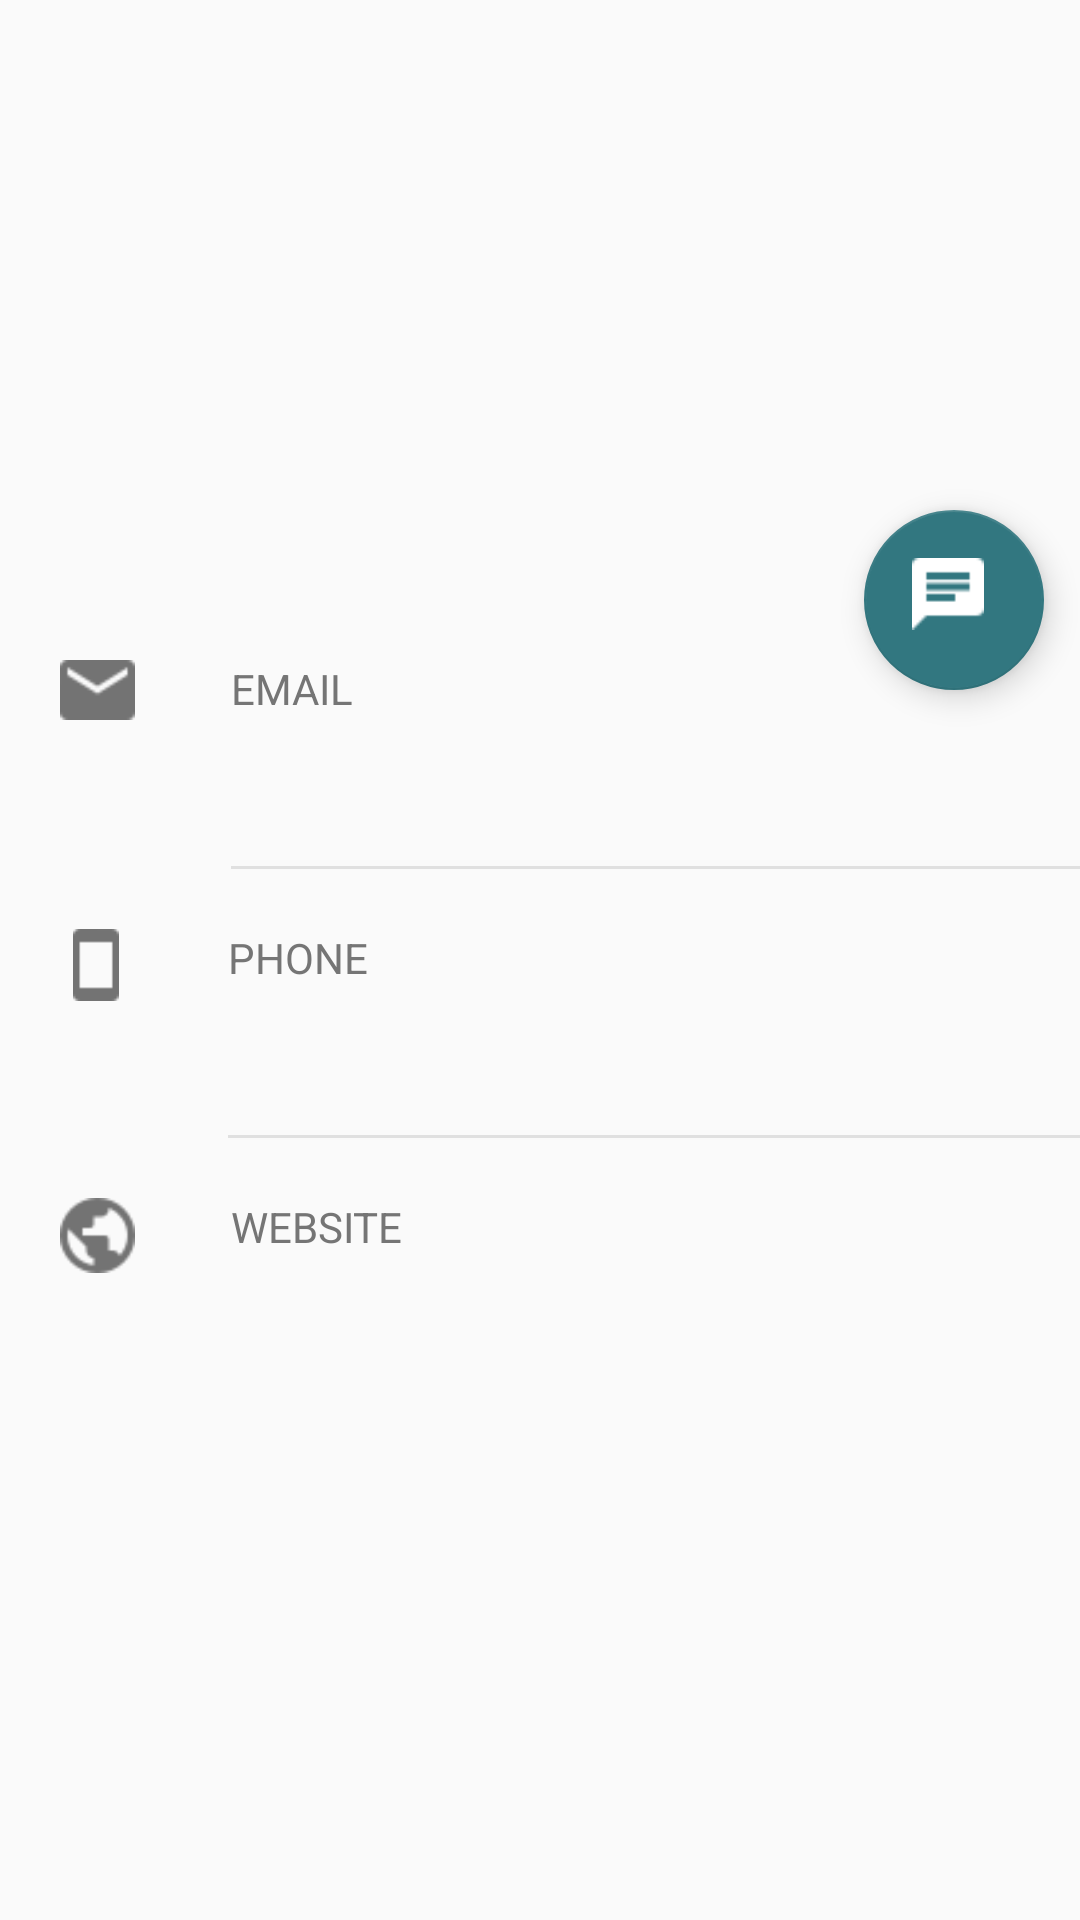

Icons on this 1080x1920 Android screen, each with its box as (x1, y1, x2, y2):
chat: (864, 510, 1047, 694)
